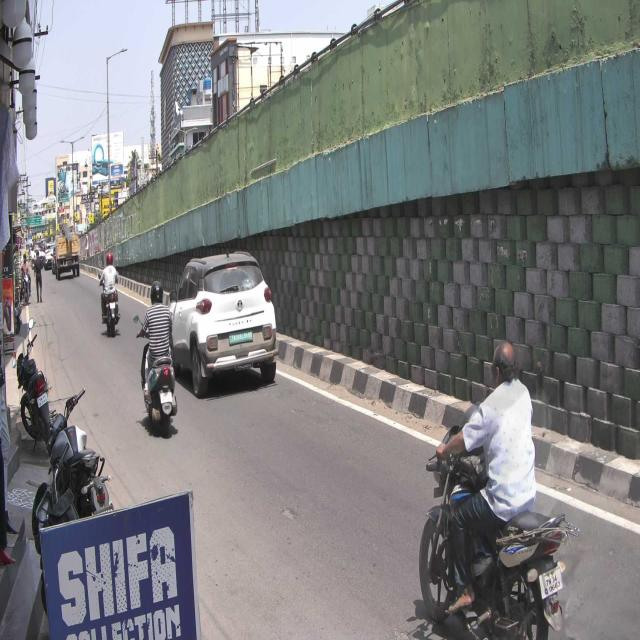single_rider: (419, 343, 569, 640), (134, 279, 178, 436)
